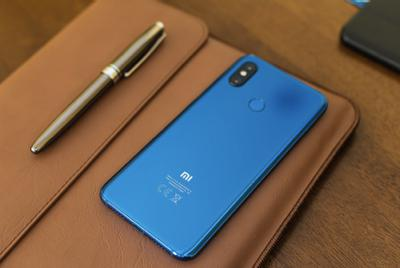cell-phone: (96, 53, 330, 268)
